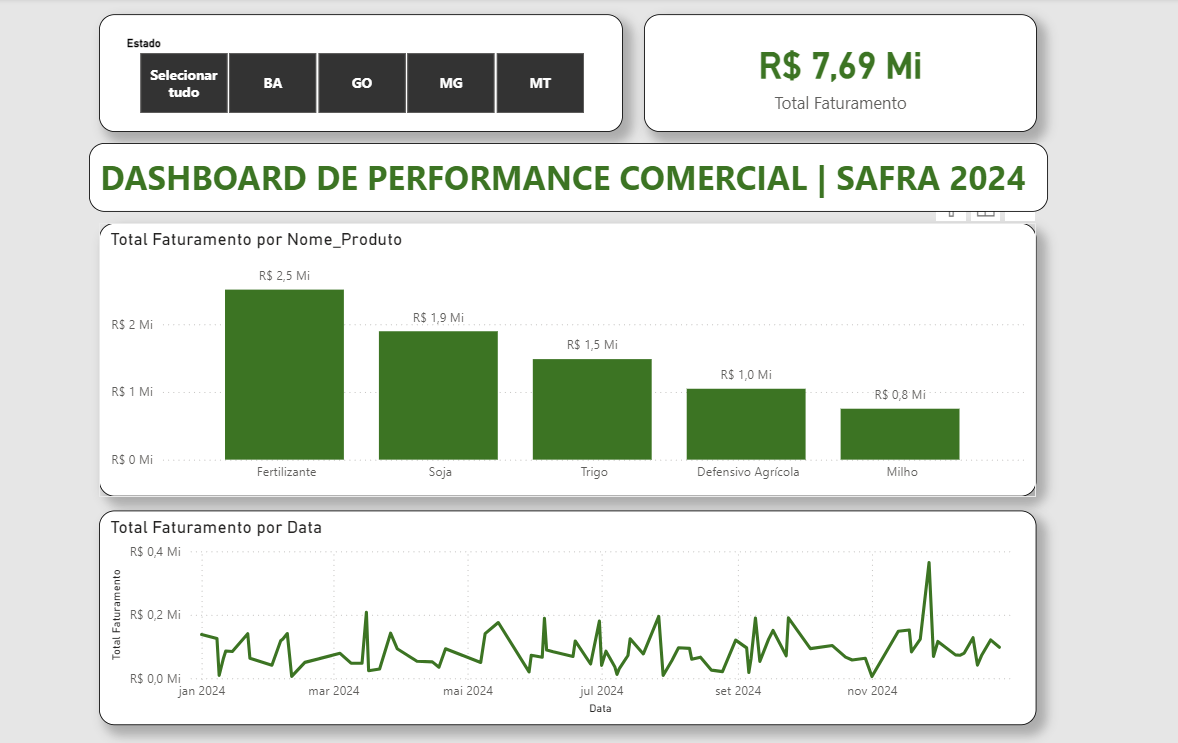

Layout of this report page (visuals, bound fields, positions):
{"tool":"powerbi","page":{"name":"Página 1","canvas":[1280,720],"ordinal":0},"visuals":[{"type":"card","fields":{"Values":["fVendas.Total Faturamento"]},"box":[748,15.7,378.8,113.4],"z":0},{"type":"columnChart","fields":{"Category":["dProdutos.Nome_Produto"],"Y":["fVendas.Total Faturamento"]},"box":[222,217.2,904.8,264.2],"z":1000},{"type":"slicer","fields":{"Values":["dClientes.Estado"]},"box":[222,15.7,505.5,113.4],"z":2000},{"type":"lineChart","fields":{"Y":["fVendas.Total Faturamento"],"Category":["fVendas.Data"]},"box":[222,494.6,904.8,207.5],"z":3000},{"type":"textbox","box":[212.3,139.9,925.3,66.4],"z":4000}]}

Visuals, with their boxes on the page's 1280x720 design canvas (x1, y1, x2, y2). These are canvas units, not pixel positions in the 1178x743 screenshot, which may show the page scaled, cropped or inside an application window:
card - fVendas.Total Faturamento: box(748, 16, 1127, 129)
columnChart - dProdutos.Nome_Produto x fVendas.Total Faturamento: box(222, 217, 1127, 481)
slicer - dClientes.Estado: box(222, 16, 728, 129)
lineChart - fVendas.Total Faturamento x fVendas.Data: box(222, 495, 1127, 702)
textbox: box(212, 140, 1138, 206)
